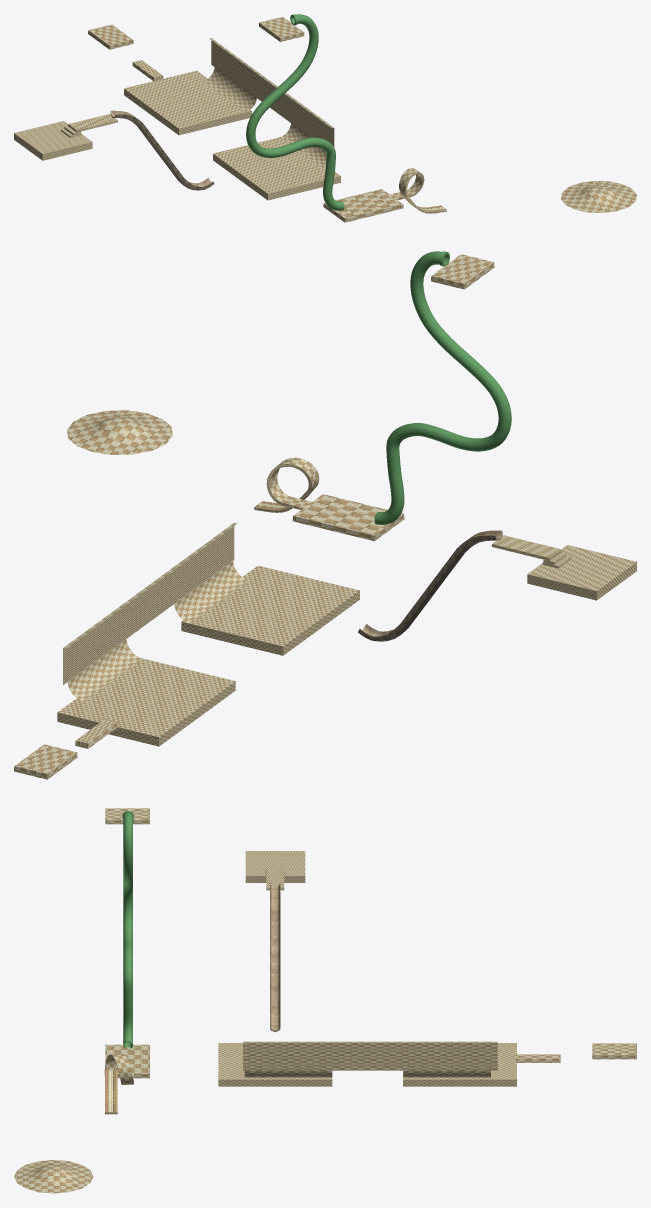
The model's file is Tutorial.obj.
3 renders of one model, top to bottom at view 1: azimuth 30°, elevation 25°; view 2: azimuth 150°, elevation 25°; view 3: azimuth 270°, elevation 25°, orthographic. The views are drawn at different scales.
Bounding box in the file's own units: 9271 × 3980 × 9715.
Materials: 4 (4 with a texture image).
